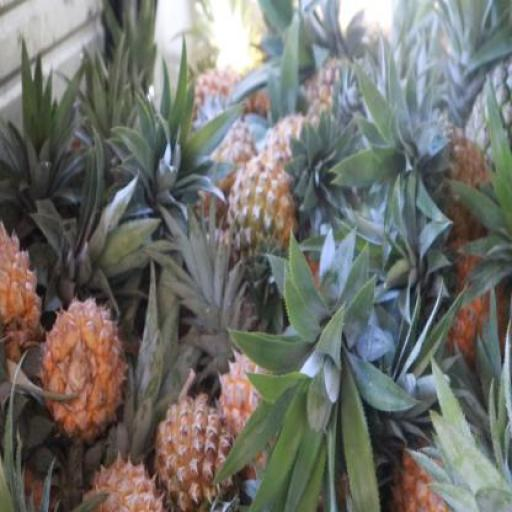Pineapple - v8 v1: (41, 298, 120, 432), (154, 399, 234, 512)
